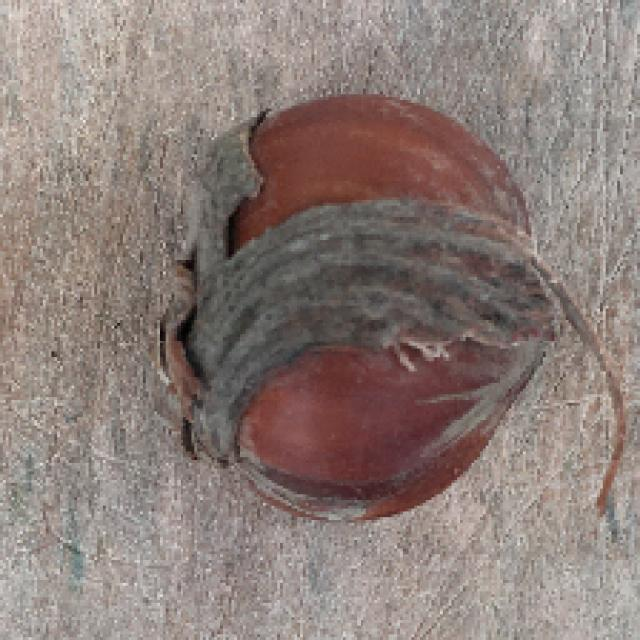damagedHazelnut: (147, 86, 568, 515)
